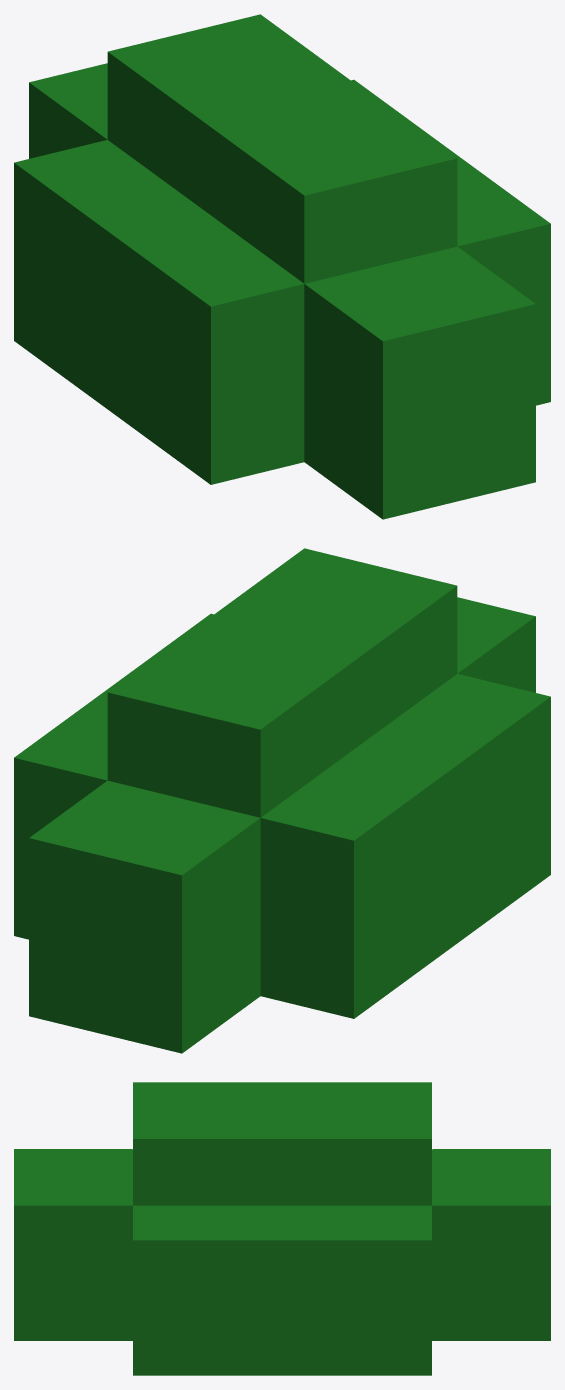
File: Bush1.fbx
The picture shows the model from 3 angles, top to bottom: view 1: azimuth 30°, elevation 25°; view 2: azimuth 150°, elevation 25°; view 3: azimuth 270°, elevation 25°; orthographic projection. The views are drawn at different scales.
Visible parts, largest first — view 1: Plane; view 2: Plane; view 3: Plane.
Boxes of the visible parts, x1,y1,x2,y2 form: Plane: [14, 14, 550, 519]; Plane: [14, 548, 550, 1053]; Plane: [14, 1082, 550, 1375].
Size of the model in its own units: 399 by 299 by 720.
